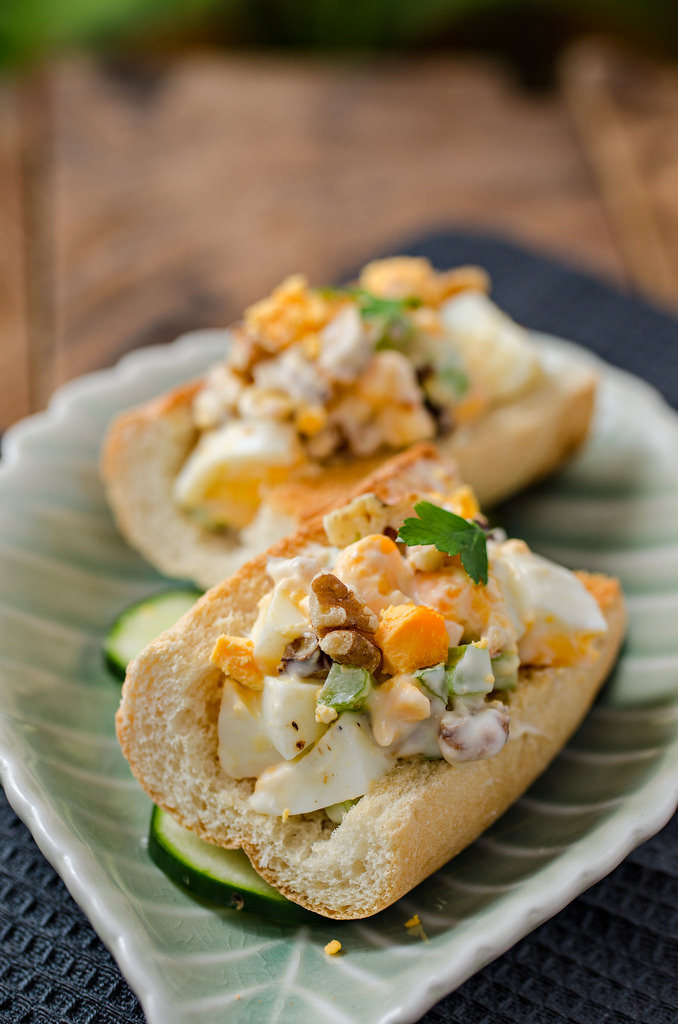slice of bread: (55, 473, 428, 773), (213, 371, 593, 508)
